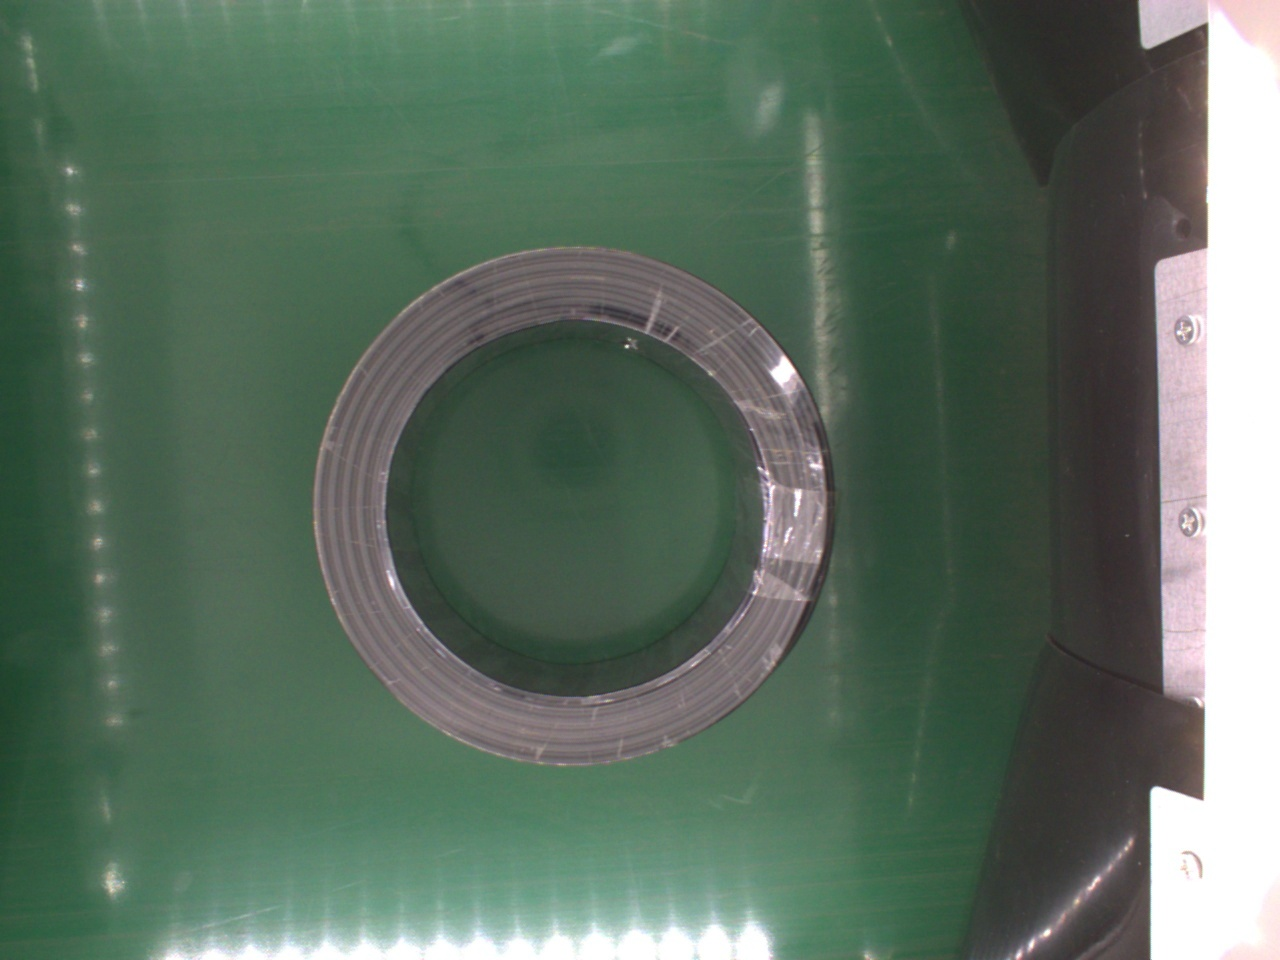black: (307, 243, 833, 769)
